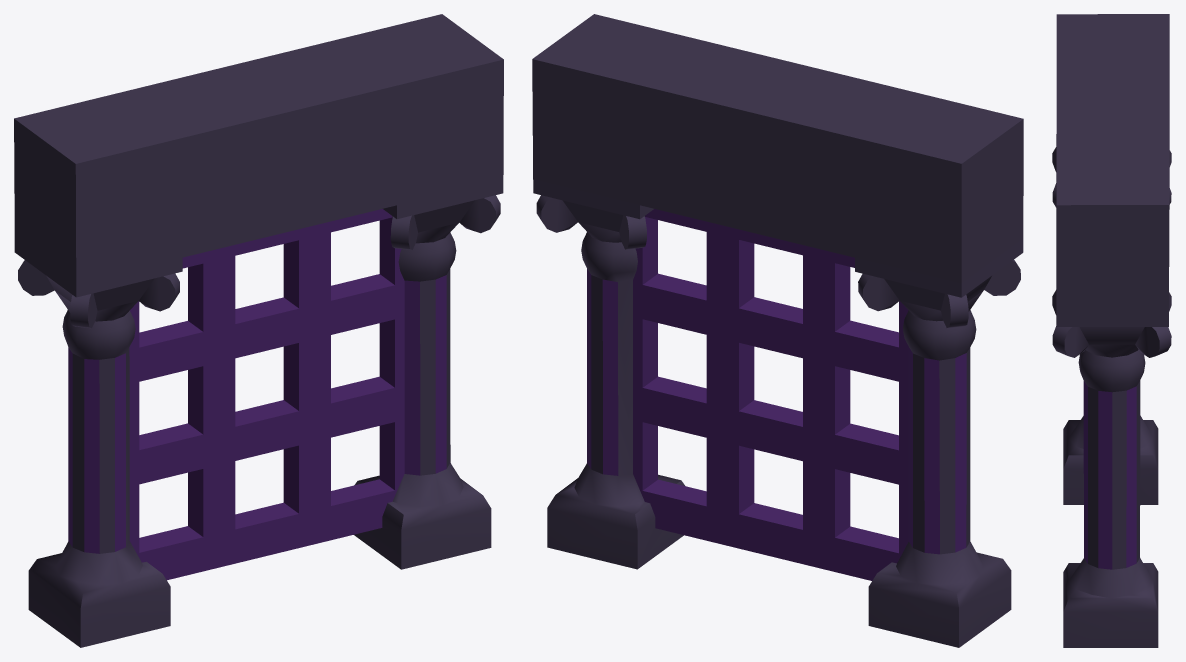
The model's file is DropGate.fbx.
The picture shows the model from 3 angles, left to right: view 1: azimuth 30°, elevation 25°; view 2: azimuth 150°, elevation 25°; view 3: azimuth 270°, elevation 25°; orthographic projection. The views are drawn at different scales.
Parts seen in each view (by area): view 1: Arch, Gate; view 2: Arch, Gate; view 3: Arch.
Boxes of the visible parts, x1,y1,x2,y2 form: Arch: (14,14,503,647); Gate: (129,209,404,580); Arch: (532,14,1023,647); Gate: (633,209,908,580); Arch: (1052,14,1171,647).
Size of the model in its own units: 809 by 878 by 212.
